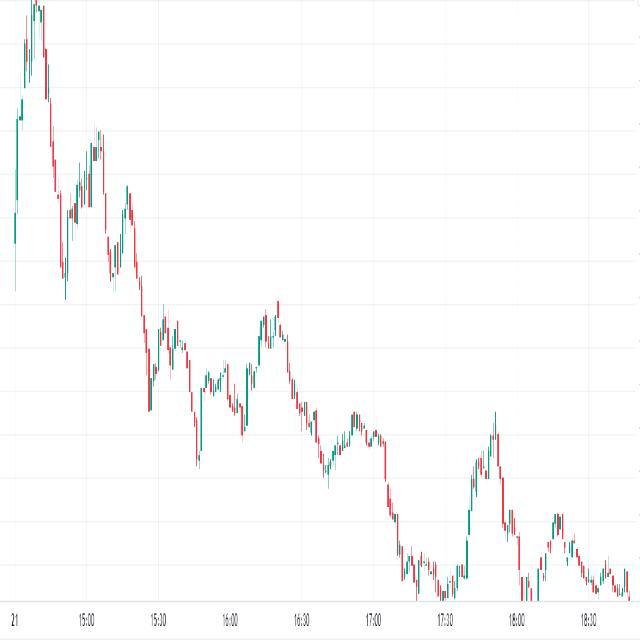Double-Top: (152, 300, 194, 400)
